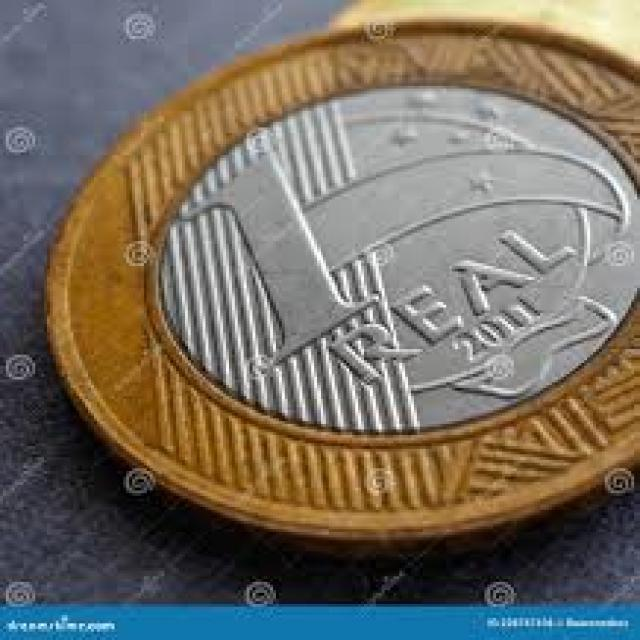1 real: (56, 28, 640, 551)
